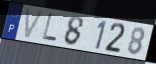1: (95, 20, 108, 51)
2: (103, 22, 127, 55)
8: (64, 16, 85, 47), (127, 27, 146, 56)
L: (41, 13, 58, 44)
V: (23, 7, 46, 40)
